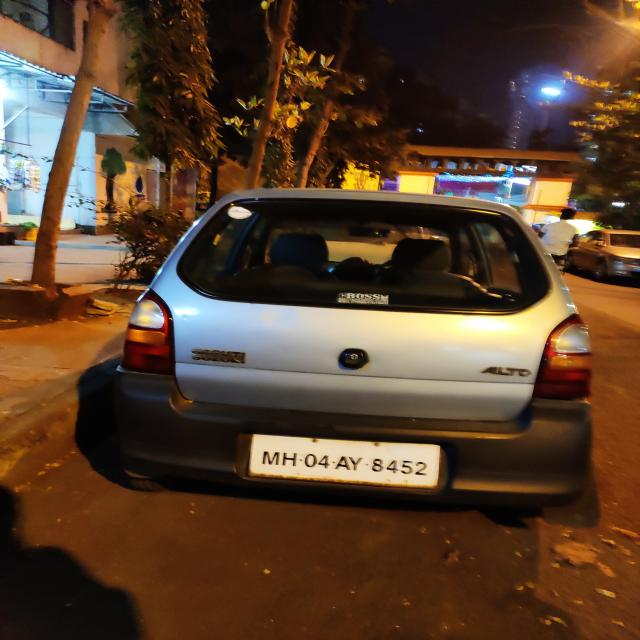Number-Plate: (252, 437, 440, 482)
